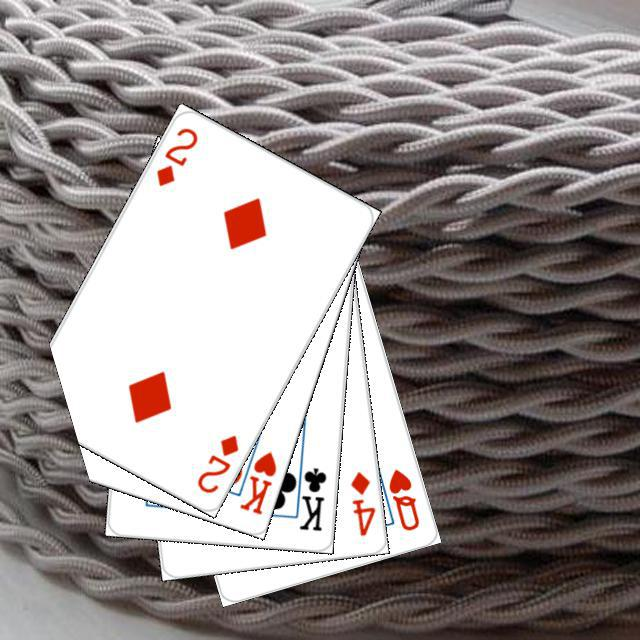2d: (151, 122, 200, 188), (192, 430, 241, 495)
4d: (345, 466, 377, 538)
Kc: (289, 454, 328, 533)
Kh: (229, 435, 278, 517)
Qh: (383, 464, 421, 533)
